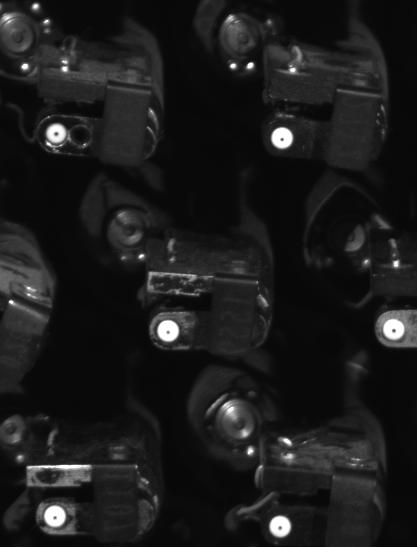fiber: (258, 119, 302, 155), (151, 315, 188, 352), (263, 510, 300, 546), (43, 115, 76, 154), (39, 501, 76, 533), (379, 315, 412, 348)
